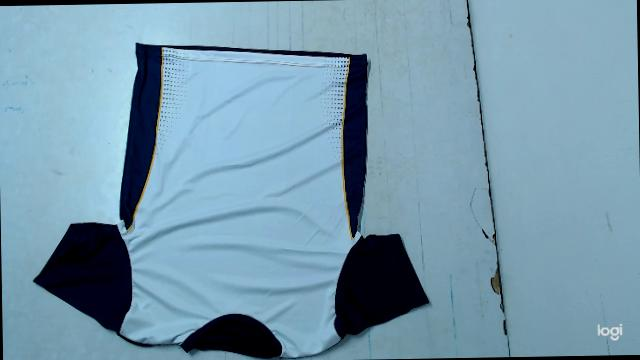new-garment: (34, 43, 427, 357)
